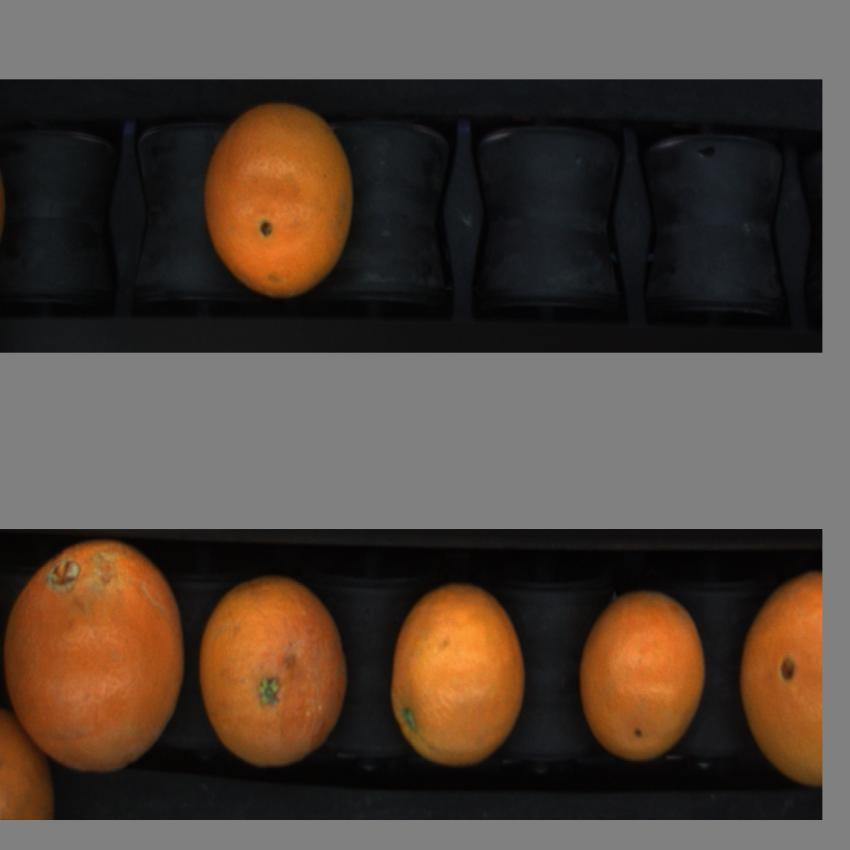Buen estado: (5, 543, 192, 783), (381, 560, 532, 784), (199, 98, 356, 305), (571, 582, 705, 768), (732, 569, 822, 800)
Mal estado: (197, 572, 356, 788)
